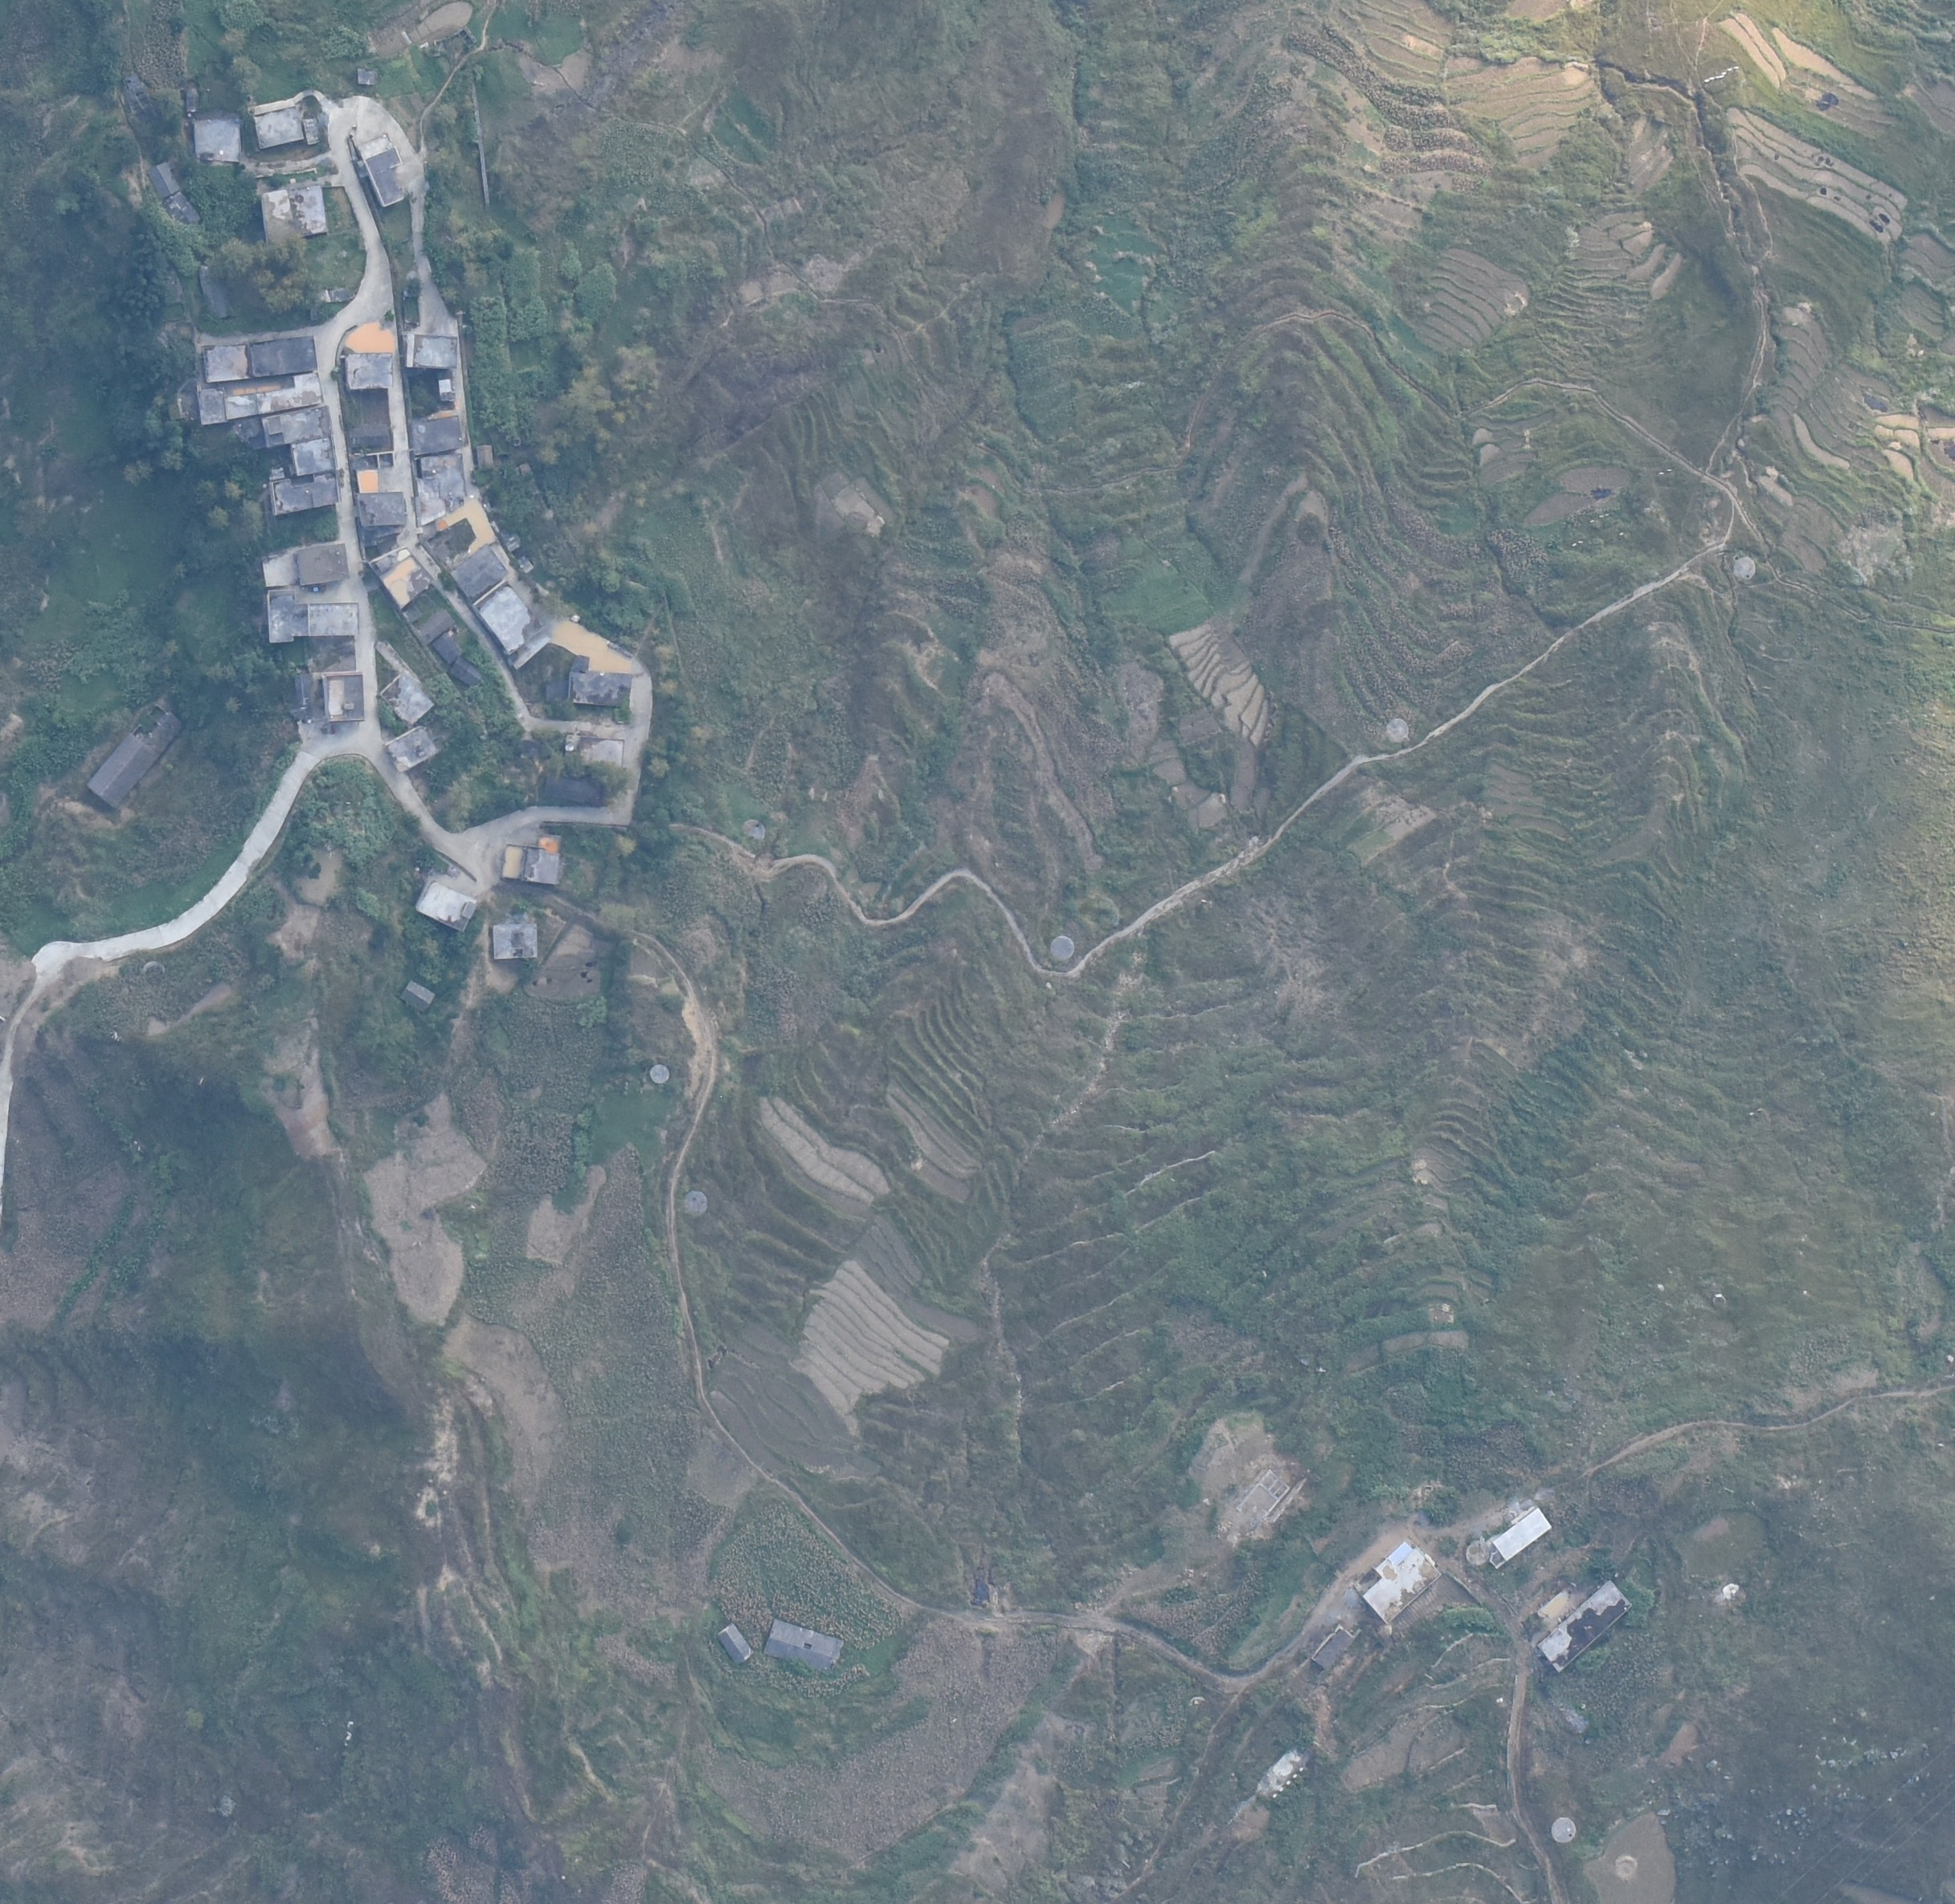building: (1538, 1585, 1632, 1670), (1362, 1541, 1438, 1623), (199, 372, 321, 422), (415, 609, 484, 693), (480, 583, 546, 665), (202, 337, 321, 382), (269, 590, 361, 644), (87, 738, 155, 805), (763, 1618, 843, 1672), (258, 183, 328, 241), (358, 133, 410, 206), (370, 550, 435, 604), (415, 878, 475, 935), (1489, 1510, 1550, 1565), (271, 468, 340, 515), (501, 832, 566, 883), (447, 546, 506, 599), (415, 459, 466, 517), (253, 110, 321, 152), (567, 733, 628, 778), (262, 408, 332, 447), (379, 674, 431, 724), (199, 260, 239, 321), (384, 728, 436, 773), (298, 541, 353, 585), (571, 668, 630, 707), (356, 490, 407, 534), (190, 115, 243, 157), (323, 672, 367, 721), (405, 332, 459, 368), (344, 353, 391, 393), (414, 417, 466, 452), (1309, 1628, 1353, 1670), (293, 435, 335, 476), (489, 927, 538, 960), (716, 1623, 752, 1665), (401, 981, 440, 1010), (168, 194, 199, 229), (147, 162, 178, 195), (356, 68, 375, 82)
well: (681, 1190, 709, 1222), (1047, 935, 1075, 963), (1550, 1817, 1578, 1843), (1468, 1539, 1492, 1569), (740, 820, 765, 846), (1732, 555, 1756, 581), (1386, 717, 1409, 742), (649, 1065, 670, 1084)
